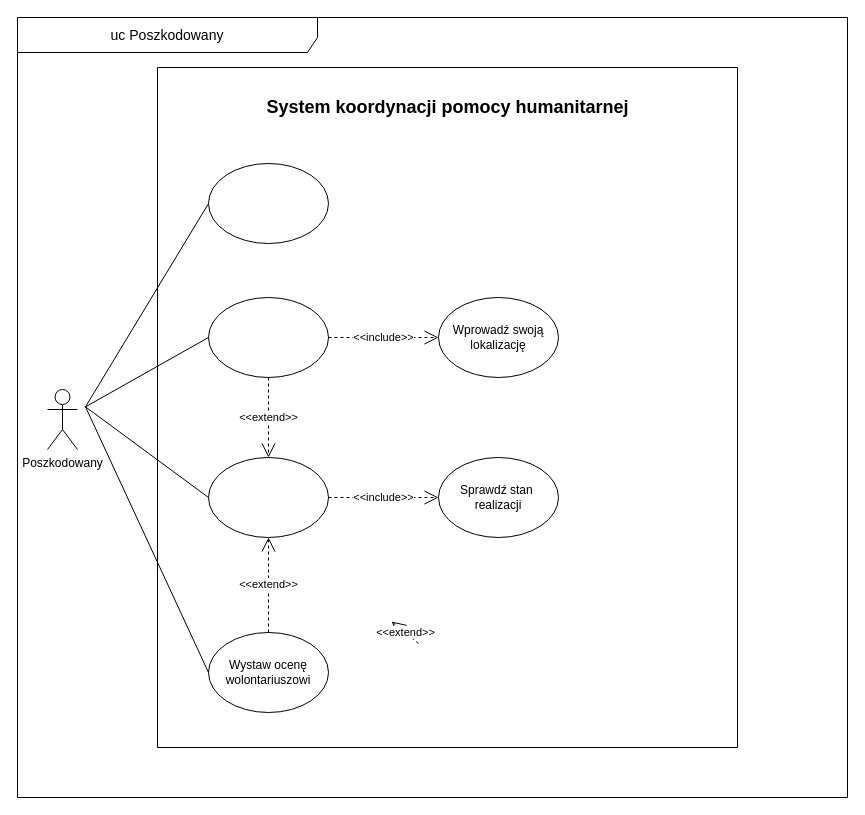
Some shapes in this 865 by 815 pixel diagram are drawn without their labels. The shapes that lost their labels are listed below. From the top down, each one's centre as x and y in pixels, then its label:
pixel 268 203: Otrzymaj powiadomienie
pixel 268 337: Zgłoś potrzeby
pixel 268 497: Wyświetl zgłoszenie
